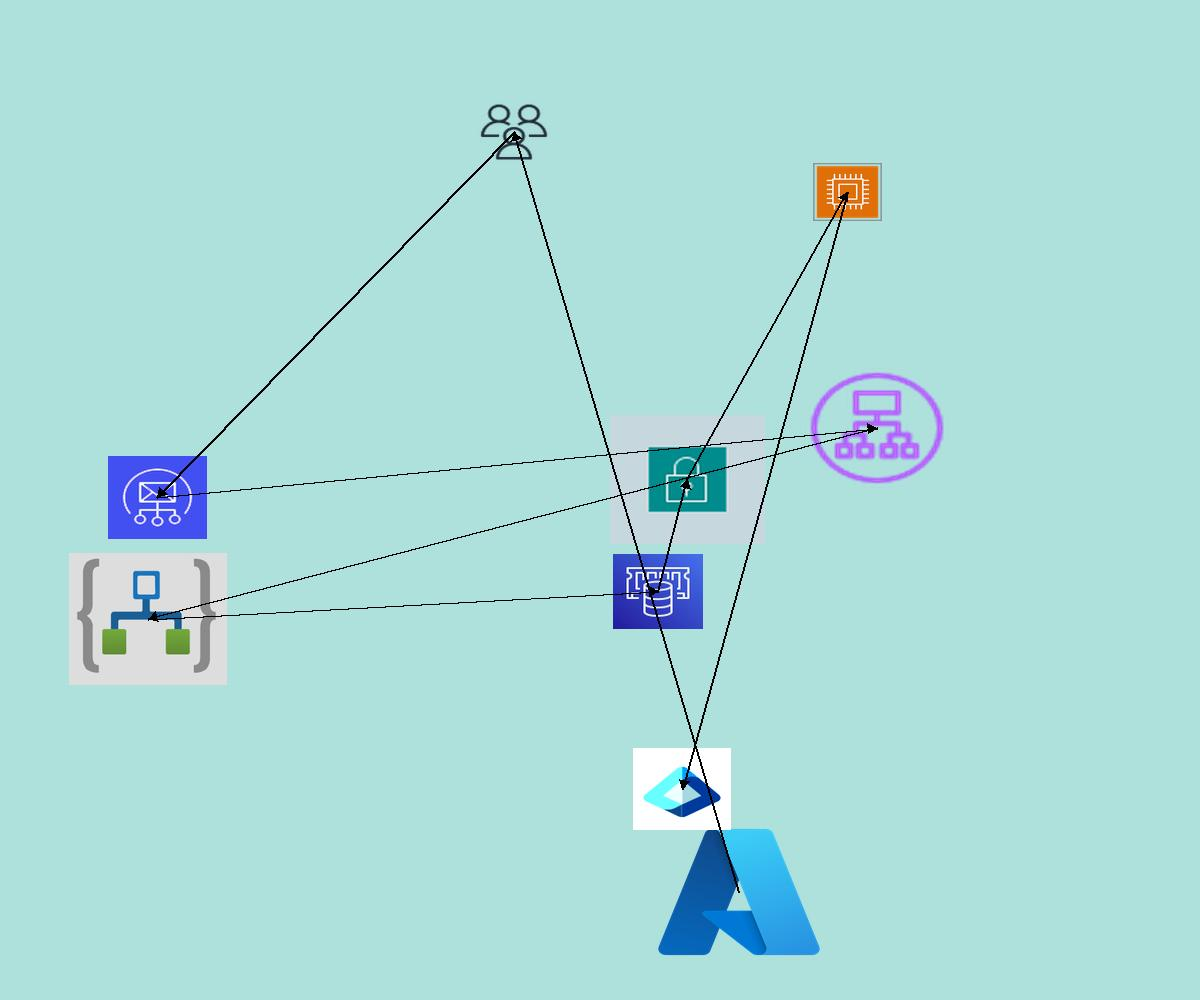AWS-Category_Compute: (813, 163, 882, 221)
AWS-ElastiCache: (613, 554, 703, 629)
AWS-Private-subnet: (610, 415, 765, 544)
AWS-Res_Elastic-Load-Balancing_Application-Load-Balancer: (805, 368, 949, 488)
AWS-Res_Users: (478, 102, 550, 162)
AWS-Simple-Email-Service: (108, 456, 207, 539)
Azure_integration-204-Logic-Apps: (69, 553, 227, 685)
Azure_microsoft_entra: (633, 748, 731, 830)
Azure_services: (651, 819, 827, 965)
